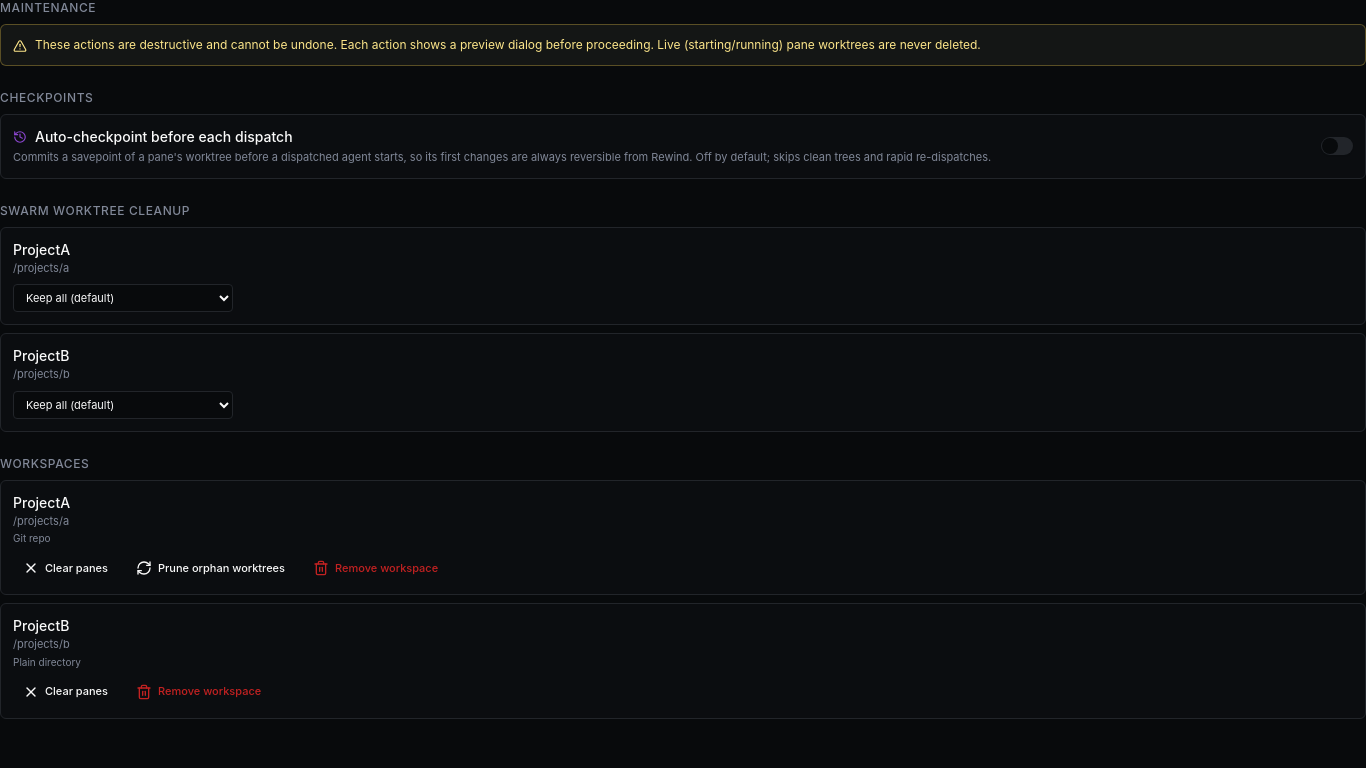
it: MaintenanceTab — clear panes › shows dry-run session count in confirm then cancels cleanly
Click the button with test id "maintenance-clear-panes-ws-1".
click(66, 568)  # box [13,554,118,582]
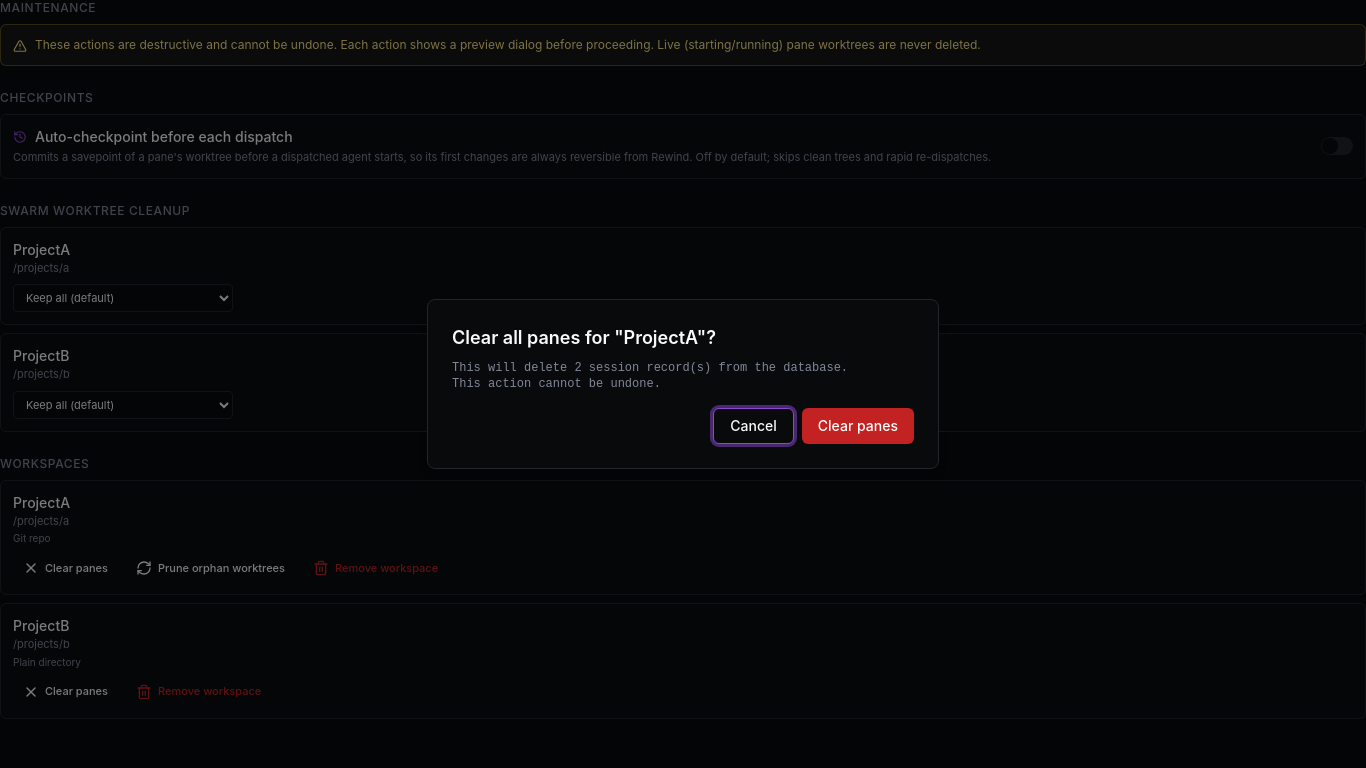
Check: the dialog shows "2 session record(s)", box [452,361,848,391]
Click the button "Cancel".
click(754, 426)  # box [713,408,794,444]
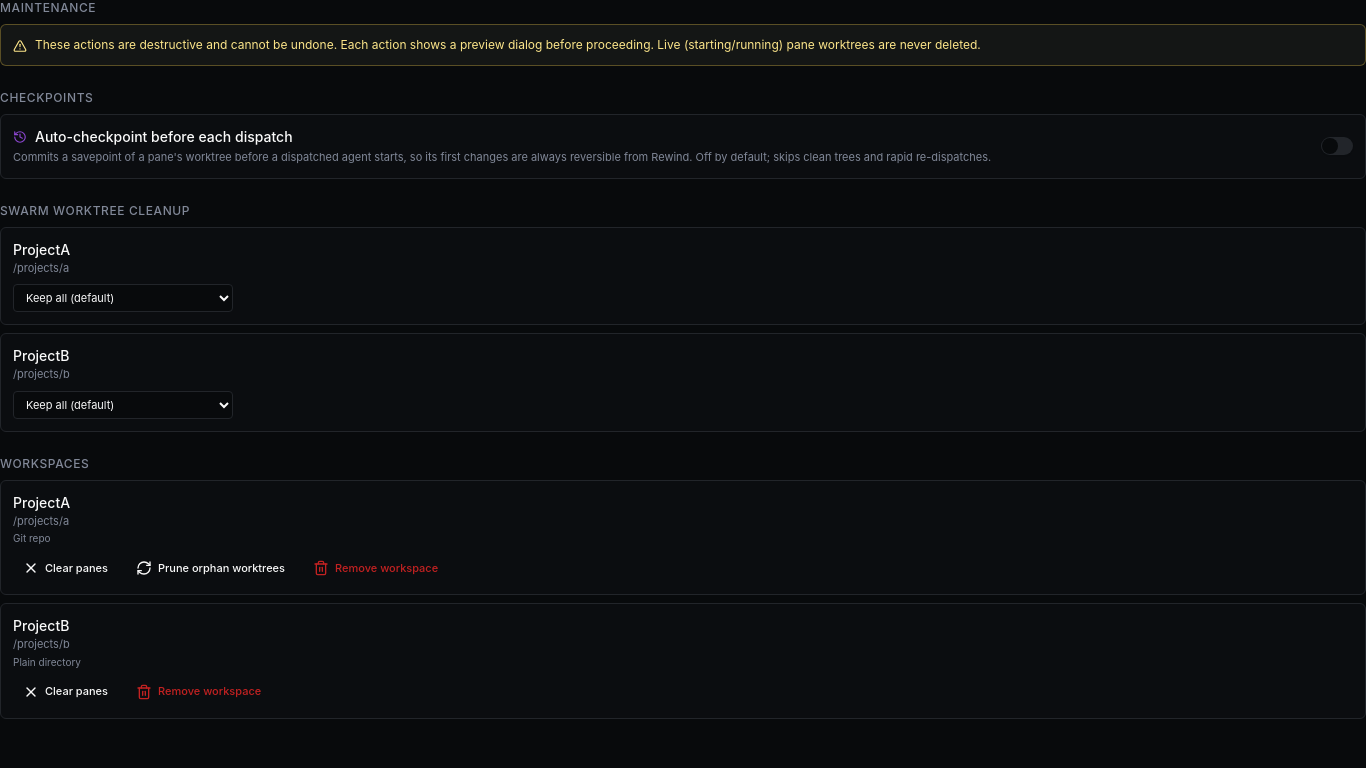
Check: the dialog is gone
